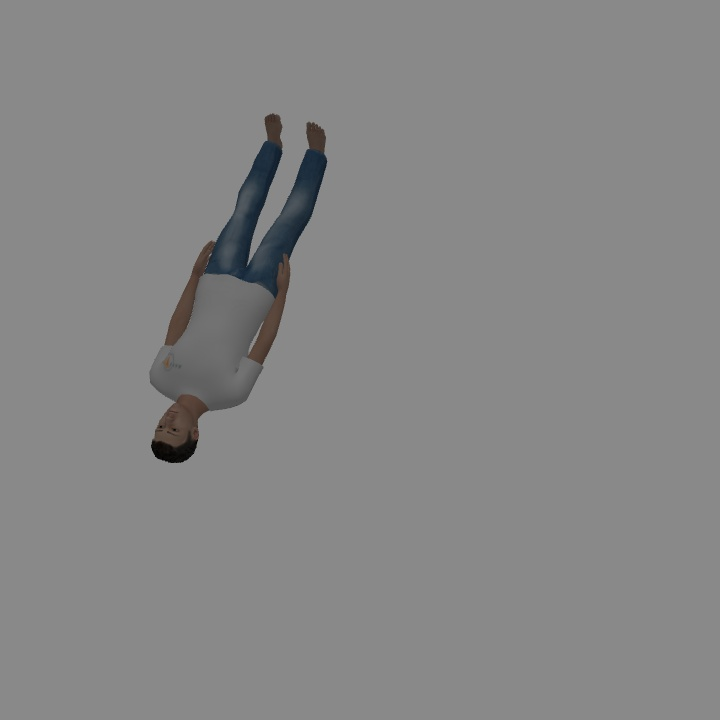victim: (150, 114, 323, 462)
